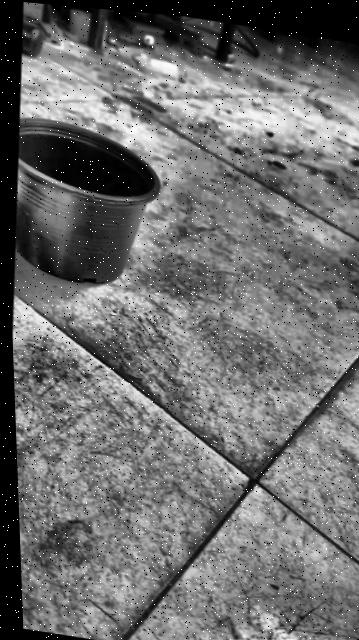pot: (7, 114, 167, 295)
